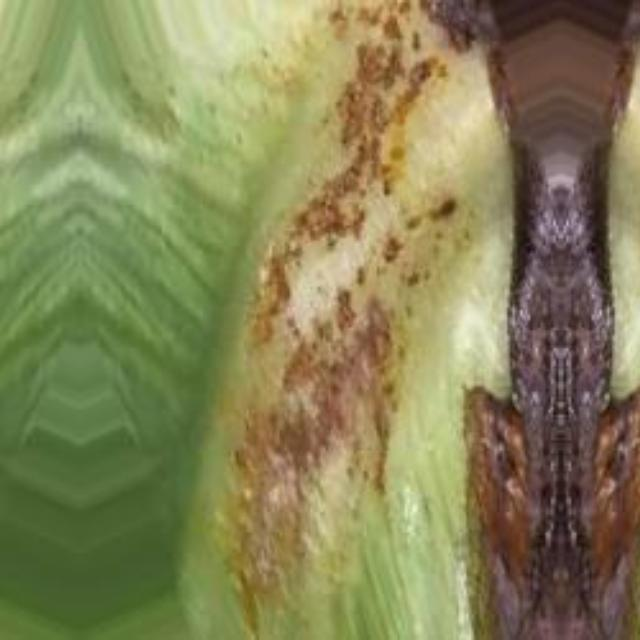Septoria_Blight: (309, 1, 501, 600), (619, 0, 640, 599)
